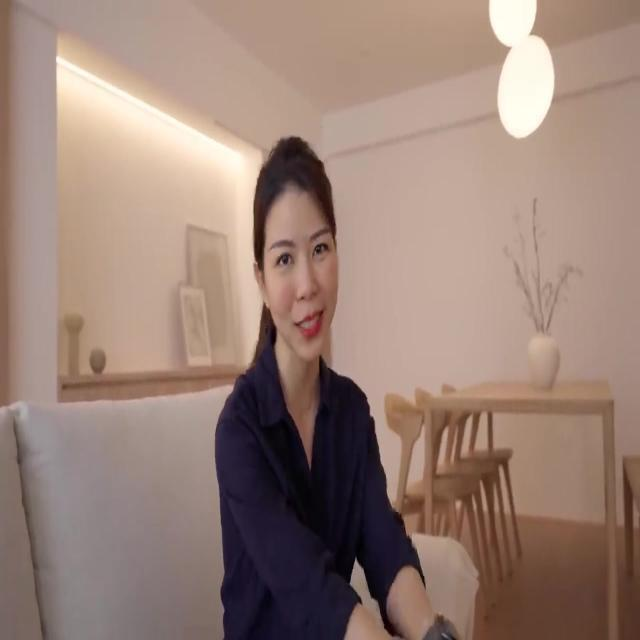obstacle: (0, 382, 480, 638), (414, 378, 618, 638)
person: (214, 134, 460, 639)
